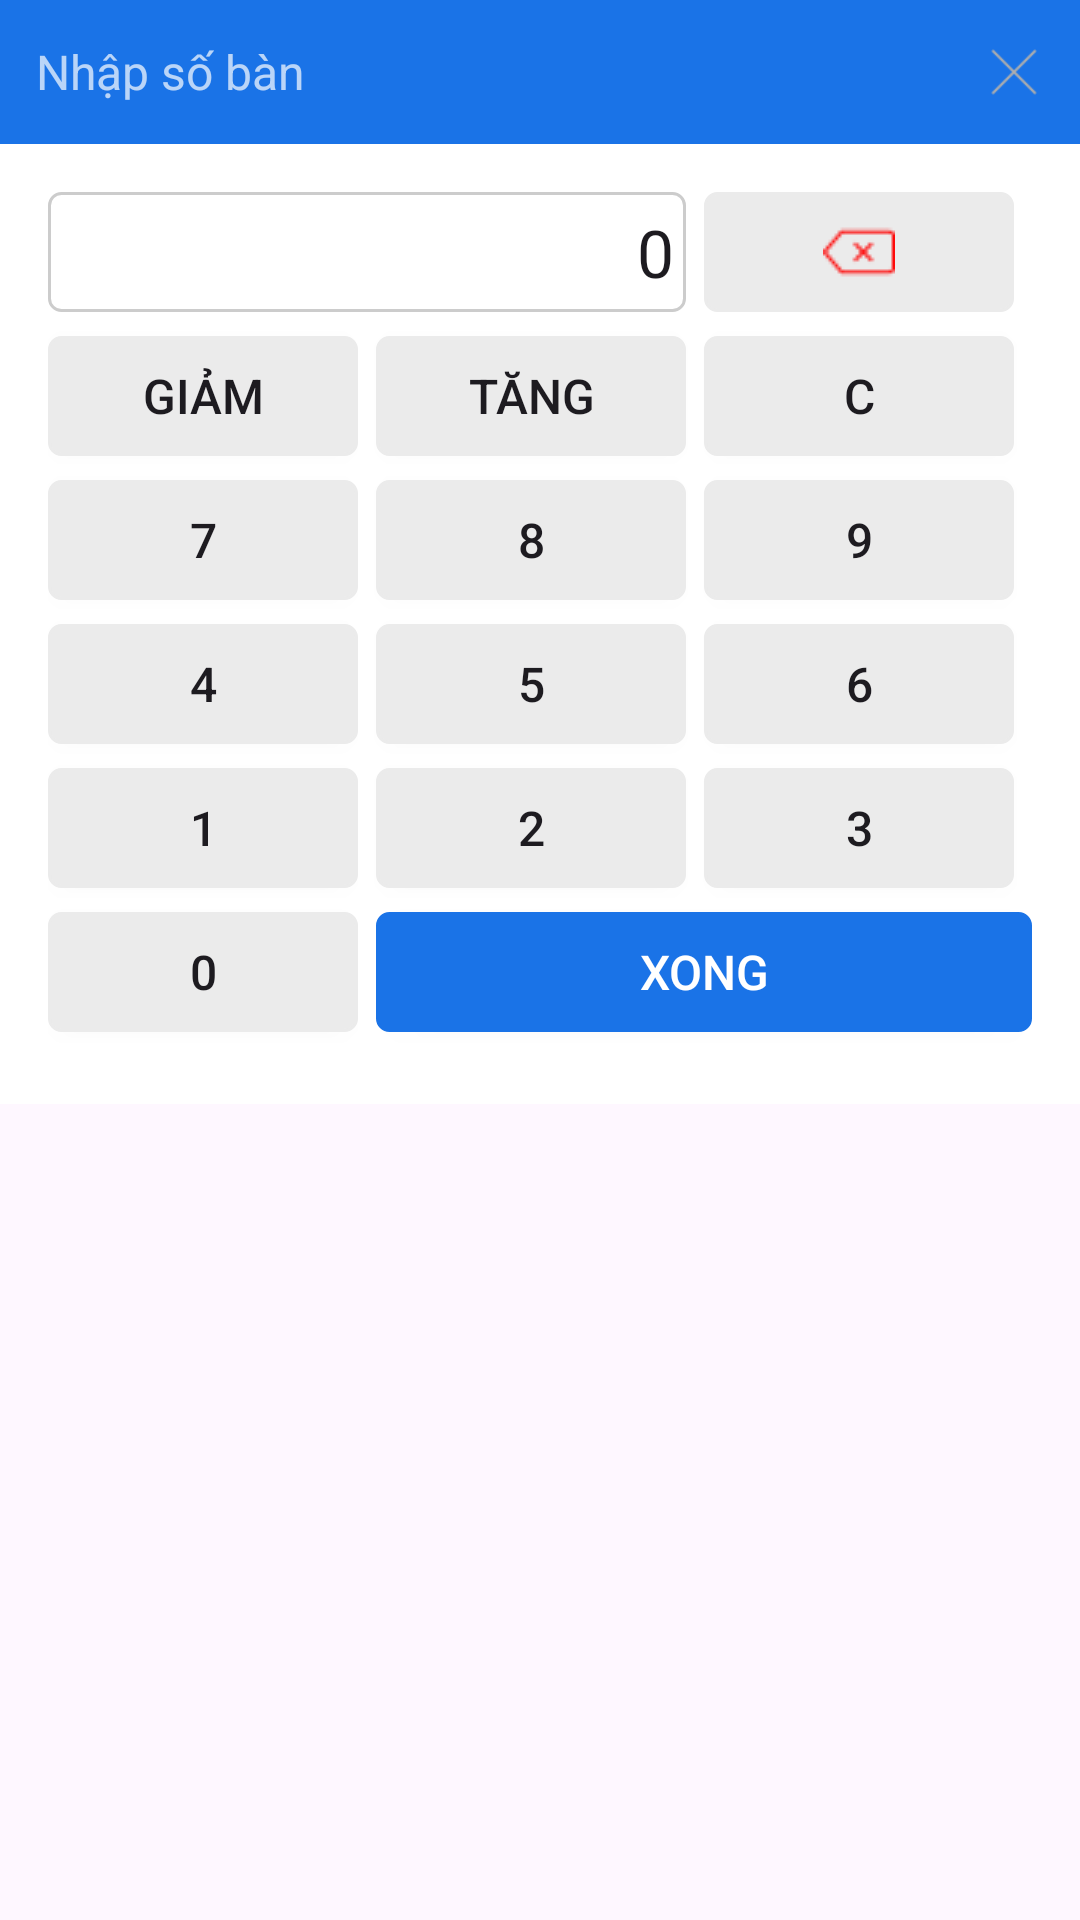

Icons on this 1080 × 1920 Android screen, each with its box as [x1, y1, x2, y2]:
close: [991, 49, 1037, 95]
Xóa: [704, 192, 1014, 312]
